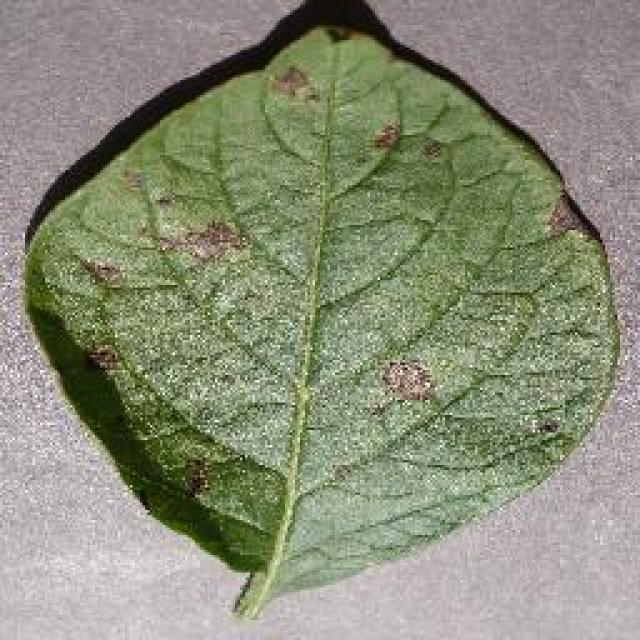Potato___Early_blight: (0, 2, 632, 637)
